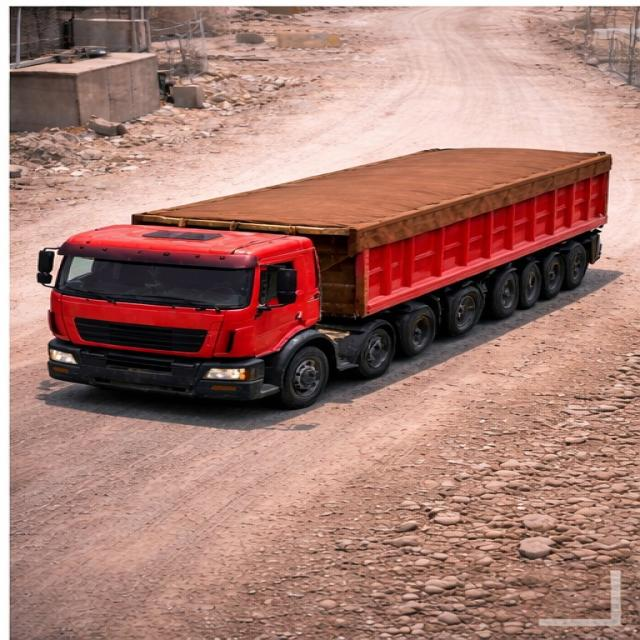Box: (135, 142, 620, 236)
Truck: (39, 136, 626, 394)
